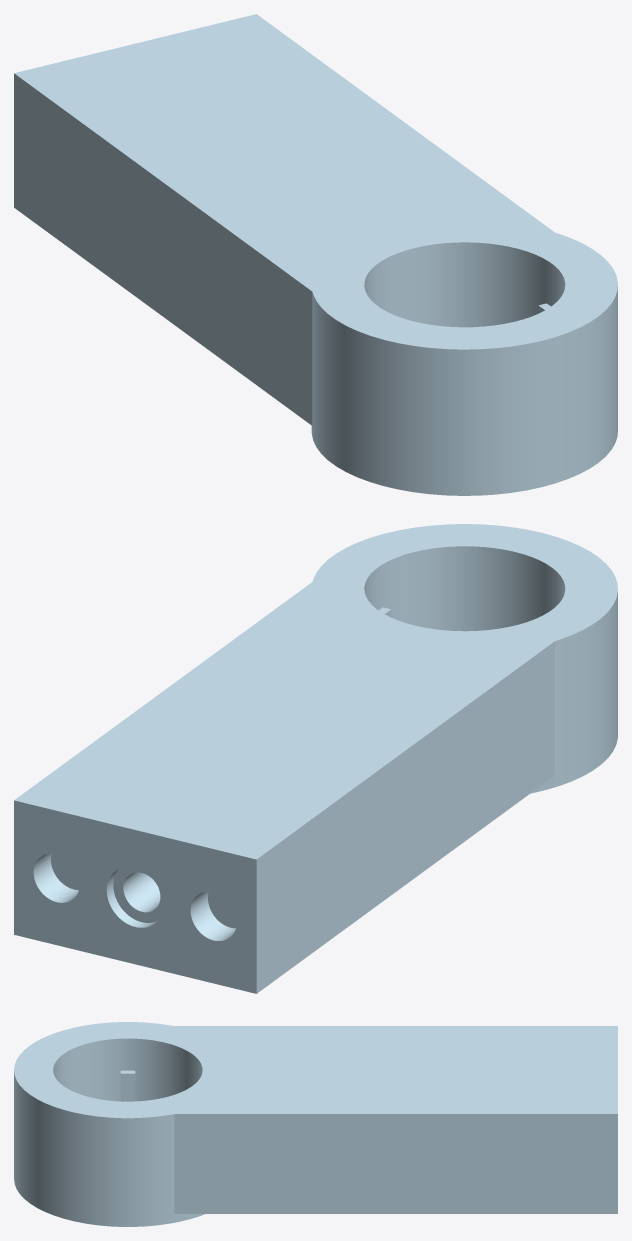
The model's file is TrianglePost.gltf.
3 renders of one model, top to bottom at view 1: azimuth 30°, elevation 25°; view 2: azimuth 150°, elevation 25°; view 3: azimuth 270°, elevation 25°, orthographic. The views are drawn at different scales.
Parts seen in each view (by area): view 1: Part 1; view 2: Part 1; view 3: Part 1.
Boxes of the visible parts, x1,y1,x2,y2 form: Part 1: [14, 14, 617, 495]; Part 1: [14, 524, 617, 993]; Part 1: [14, 1022, 617, 1226].
Size of the model in its own units: 0.0464 by 0.0245 by 0.1233.
